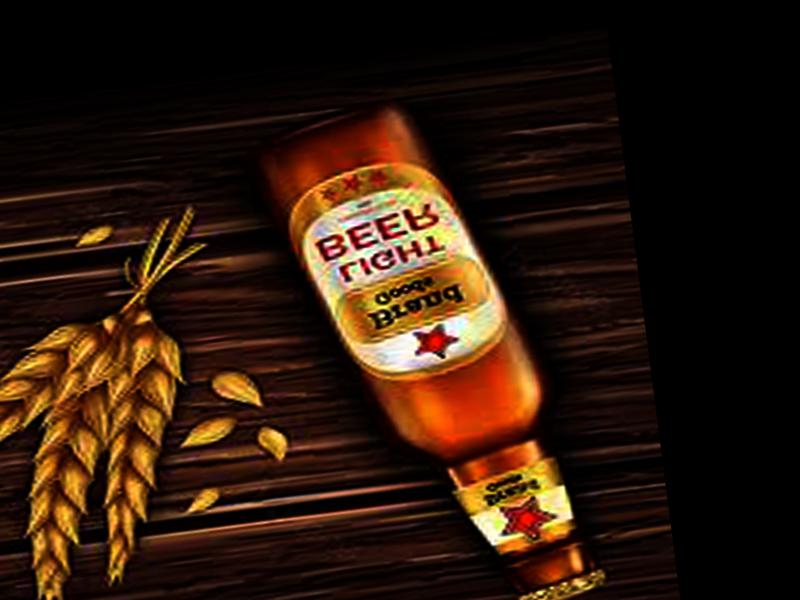Beer: (246, 83, 612, 600)
